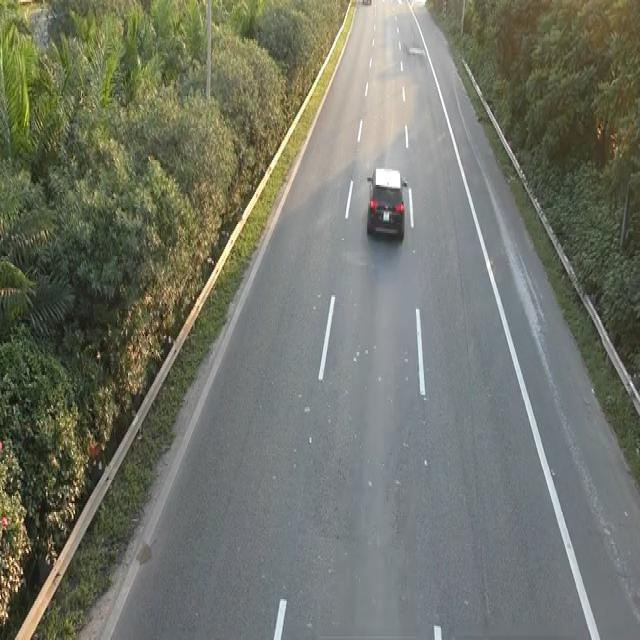car: (364, 164, 408, 242)
